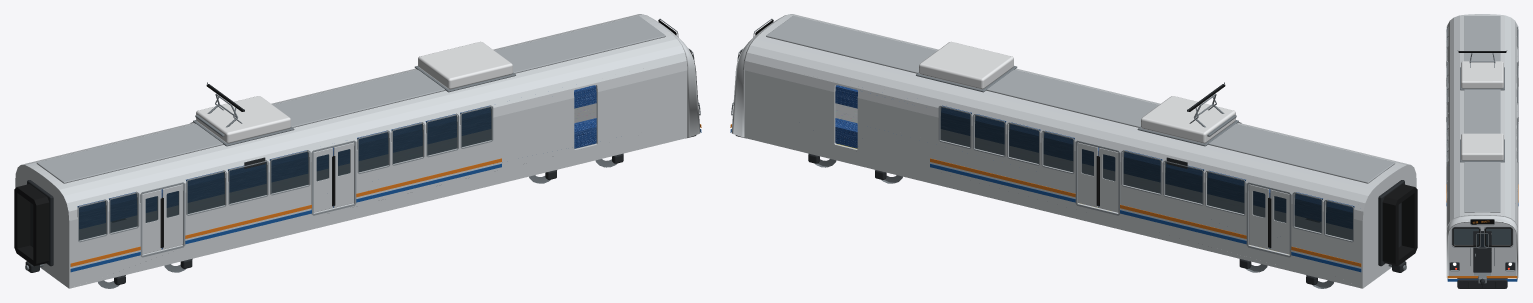
The model's file is train_313_cab_lo.glb.
3 renders of one model, left to right at view 1: azimuth 30°, elevation 25°; view 2: azimuth 150°, elevation 25°; view 3: azimuth 270°, elevation 25°, orthographic. The views are drawn at different scales.
Visible parts, largest first — view 1: Body, Parts_Roof, Parts_WindowGlass, Parts_Moquette, Parts_RoofWhite, Parts_Floor, DoorLeaf (×4), Parts_BodyTrim, Parts_Rubber, Parts_StripeOrange, Parts_StripeBlue, Parts_Steel (+2 smaller); view 2: Body, Parts_Roof, Parts_WindowGlass, Parts_Moquette, Parts_RoofWhite, Parts_Floor, DoorLeaf (×4), Parts_BodyTrim, Parts_Rubber, Parts_StripeOrange, Parts_StripeBlue, Parts_Steel (+2 smaller); view 3: Body, Parts_Roof, Parts_RoofWhite, Parts_UnderDark, Parts_Steel, Parts_WindowGlass, FrontCap, Parts_Rubber, Parts_BodyTrim, Parts_StripeOrange, Parts_Black, Parts_StripeBlue (+1 smaller).
Part boxes in pixels (box(x1,y1,x2,y2)): Body: box(15, 14, 687, 288); Parts_Roof: box(36, 15, 665, 183); Parts_WindowGlass: box(77, 107, 491, 240); Parts_Moquette: box(77, 85, 596, 249); Parts_RoofWhite: box(196, 41, 512, 143); Parts_Floor: box(79, 103, 596, 249); DoorLeaf (×4): box(142, 142, 353, 254); Parts_BodyTrim: box(77, 105, 493, 257); Parts_Rubber: box(14, 50, 693, 266); Parts_StripeOrange: box(70, 124, 701, 266); Parts_StripeBlue: box(70, 129, 701, 272); Parts_Steel: box(25, 18, 700, 270); Body: box(744, 14, 1416, 288); Parts_Roof: box(766, 15, 1395, 183); Parts_WindowGlass: box(940, 107, 1354, 240); Parts_Moquette: box(835, 85, 1354, 249); Parts_RoofWhite: box(919, 41, 1235, 143); Parts_Floor: box(835, 103, 1352, 249); DoorLeaf (×4): box(1078, 142, 1289, 254); Parts_BodyTrim: box(938, 105, 1354, 257); Parts_Rubber: box(738, 50, 1417, 266); Parts_StripeOrange: box(730, 124, 1361, 266); Parts_StripeBlue: box(730, 129, 1361, 272); Parts_Steel: box(731, 18, 1406, 270); Body: box(1446, 14, 1518, 275); Parts_Roof: box(1464, 16, 1500, 212); Parts_RoofWhite: box(1461, 61, 1503, 160); Parts_UnderDark: box(1446, 51, 1518, 288); Parts_Steel: box(1449, 50, 1515, 283); Parts_WindowGlass: box(1447, 27, 1517, 247); FrontCap: box(1446, 215, 1518, 279); Parts_Rubber: box(1452, 227, 1512, 246); Parts_BodyTrim: box(1446, 26, 1518, 183); Parts_StripeOrange: box(1446, 184, 1518, 278); Parts_Black: box(1458, 51, 1506, 224); Parts_StripeBlue: box(1446, 203, 1518, 281).
Bounding box in the file's own units: 20.96 × 4.71 × 2.98.
18 materials, 4 textured.
